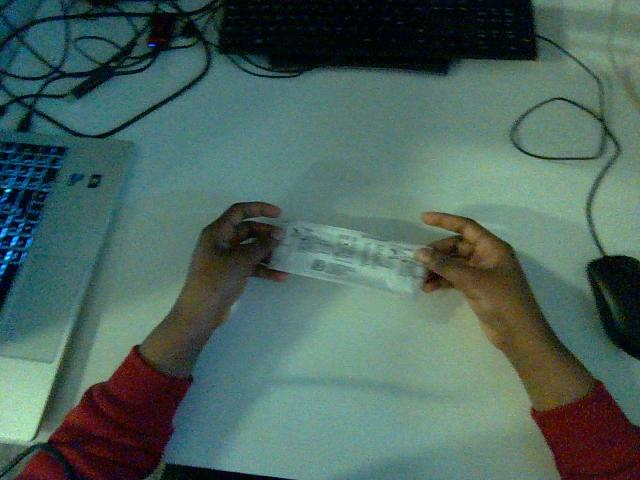syringe: (269, 221, 425, 294)
